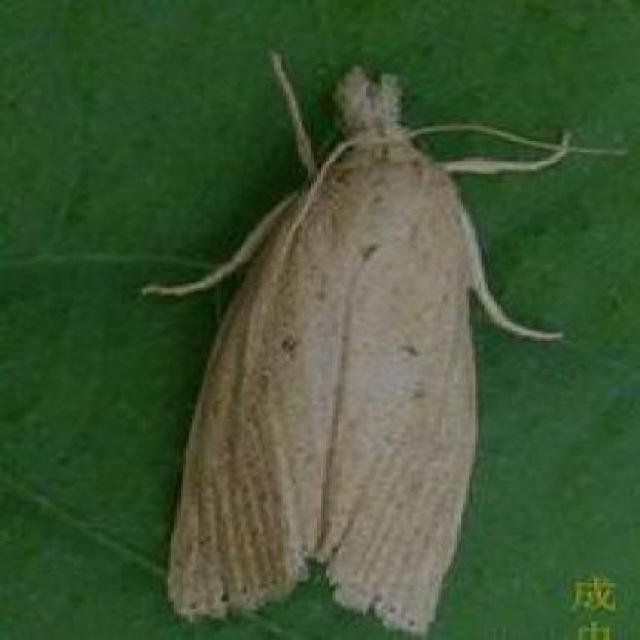stem-borer: (140, 43, 563, 640)
